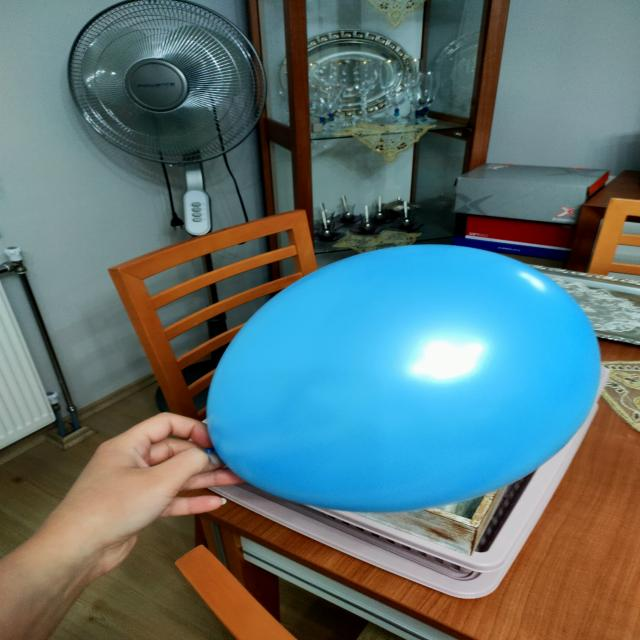blue: (205, 246, 602, 513)
